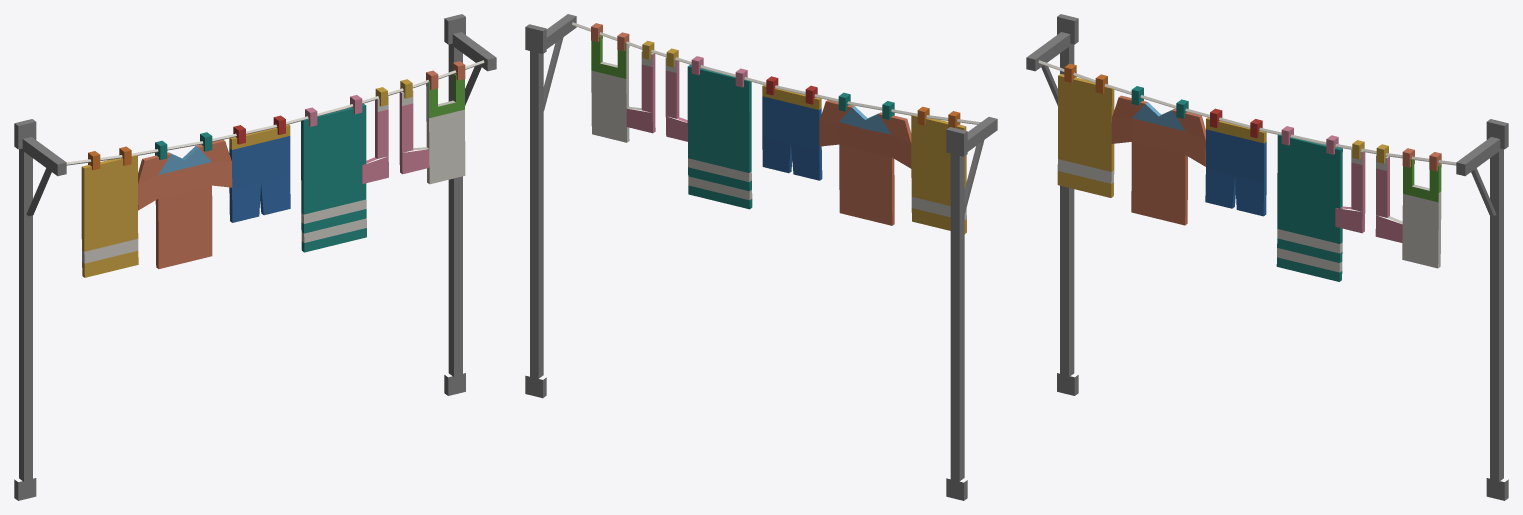
The model's file is camasir_ipi.glb.
3 renders of one model, left to right at view 1: azimuth 30°, elevation 25°; view 2: azimuth 150°, elevation 25°; view 3: azimuth 330°, elevation 25°, orthographic. The views are drawn at different scales.
Visible parts, largest first — view 1: camasir_ipi; view 2: camasir_ipi; view 3: camasir_ipi.
Part boxes in pixels (x1,y1,x2,y2): camasir_ipi: (14,14,496,500); camasir_ipi: (525,14,997,500); camasir_ipi: (1026,14,1508,500).
Size of the model in its own units: 2 by 1.6 by 0.3.
